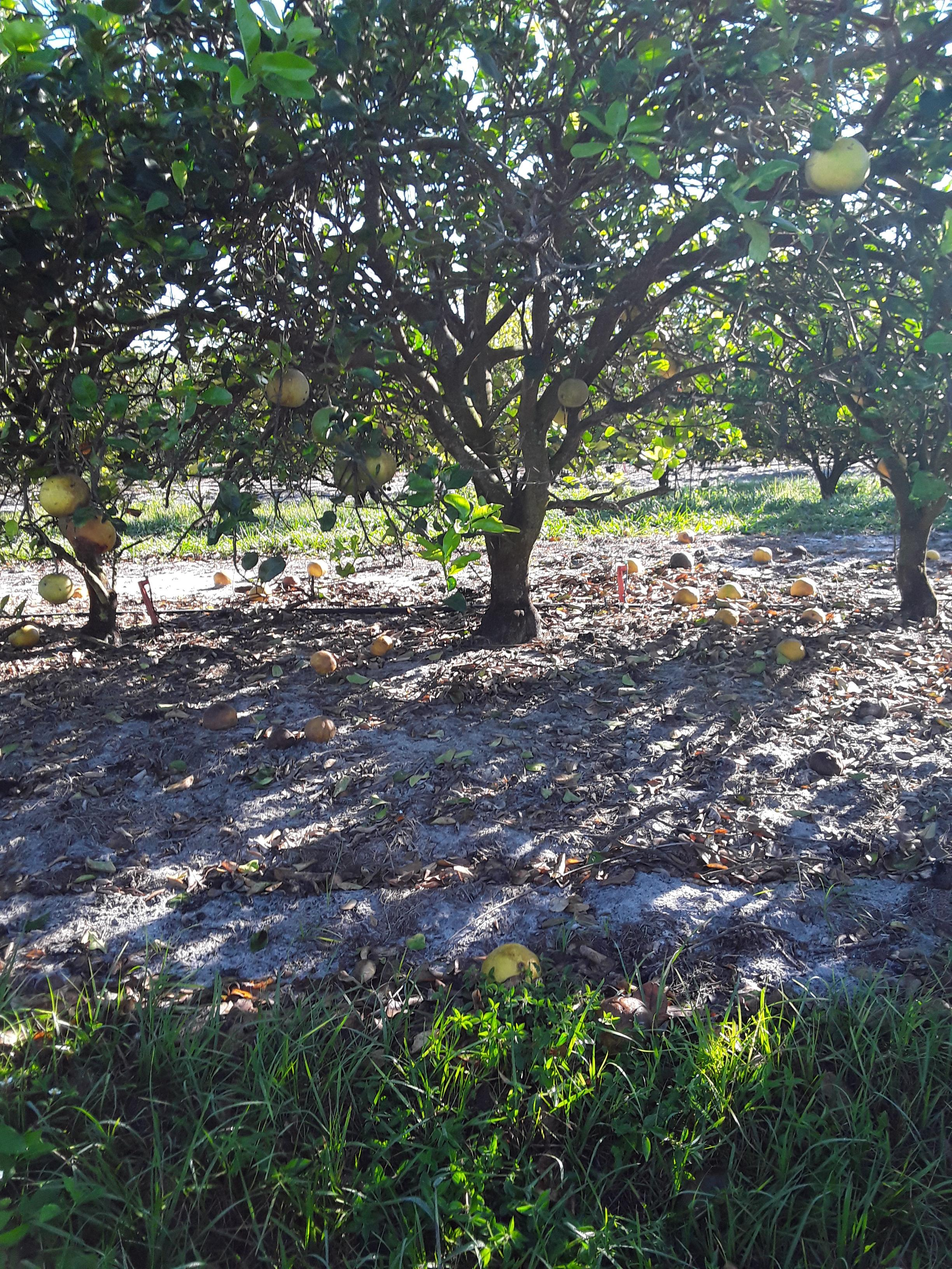fruit_on_ground: (805, 133, 875, 197), (40, 470, 95, 518), (66, 514, 119, 558), (311, 404, 359, 447), (264, 367, 311, 410), (355, 445, 400, 487), (333, 454, 369, 498), (37, 571, 77, 606), (549, 398, 588, 428), (557, 376, 591, 405), (877, 452, 910, 479), (72, 438, 94, 460)
fruit_on_tree: (590, 993, 656, 1056), (475, 941, 546, 993), (804, 746, 853, 782), (856, 695, 897, 725), (203, 703, 244, 732), (304, 716, 334, 750), (774, 636, 811, 662), (846, 382, 877, 412), (10, 621, 40, 652), (268, 726, 301, 752), (310, 647, 337, 678), (672, 584, 703, 607), (716, 581, 746, 603), (790, 579, 820, 599), (800, 607, 829, 626), (669, 551, 698, 569), (750, 545, 775, 565), (621, 557, 646, 577), (279, 573, 303, 591), (373, 637, 392, 659), (305, 559, 324, 580), (925, 547, 945, 565), (212, 568, 229, 588), (249, 585, 266, 604), (678, 528, 695, 545)
